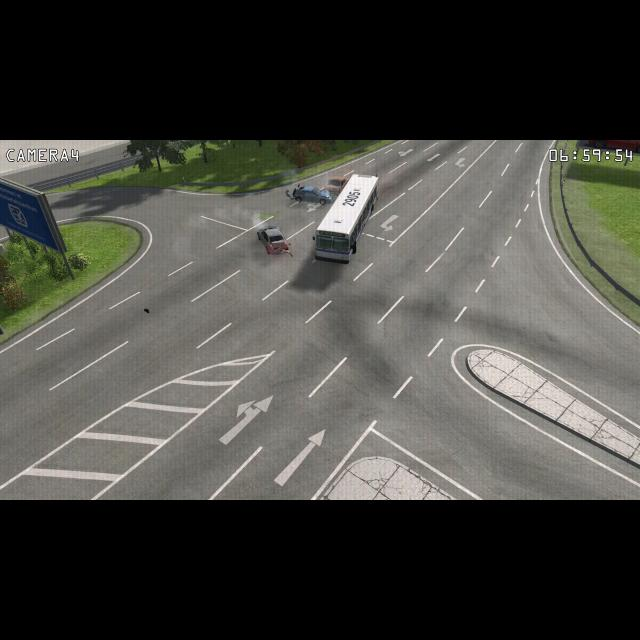accident: (289, 174, 382, 260)
